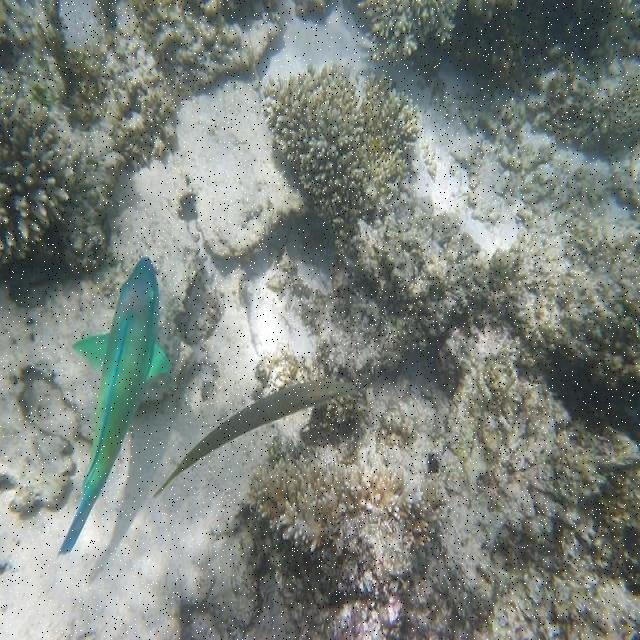fish: (57, 256, 173, 555), (152, 377, 354, 499)
reefs: (262, 62, 423, 277), (247, 451, 448, 556), (0, 93, 87, 265), (357, 0, 462, 66)
